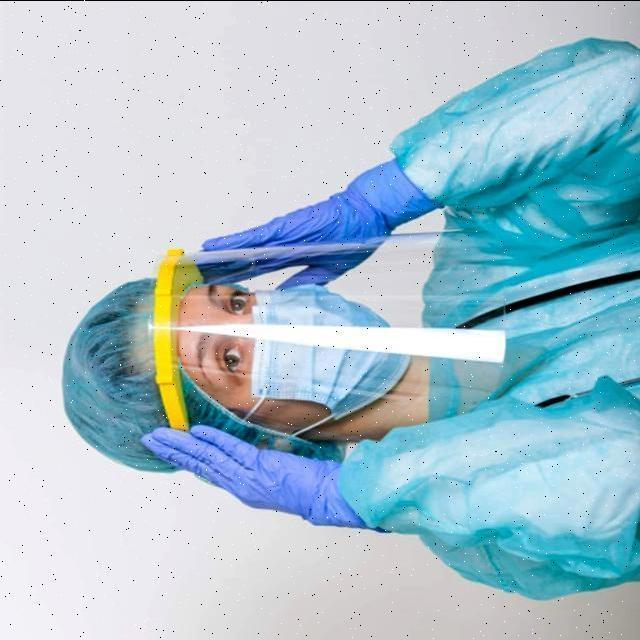apron: (138, 400, 352, 530), (213, 165, 425, 276)
gloves: (58, 278, 158, 468)
mask: (250, 278, 395, 412)
